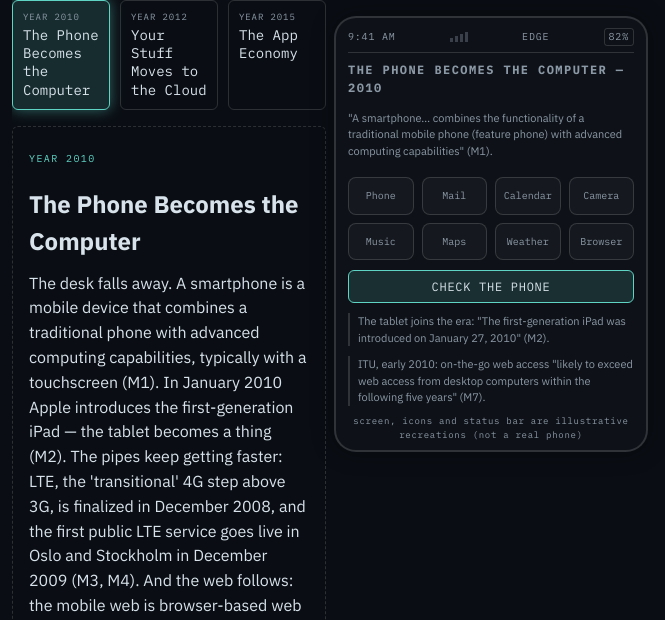
MobileScene (2010–2015, three chapters) › chapter 2, WHAT IF branch: stays on the device, clearly labeled
Click the button "YEAR 2012 Your Stuff Moves to the Cloud". click: (169, 55)
box: [120,0,218,110]
(page scrolled)
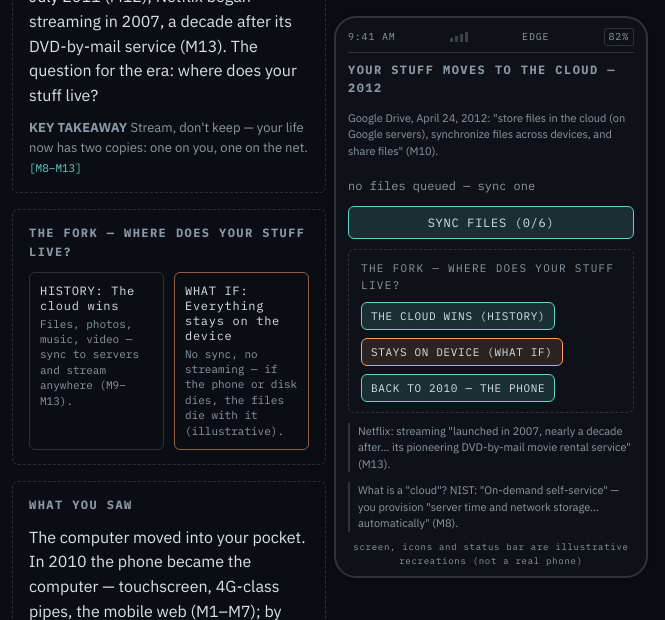
Click the button "WHAT IF: Everything stays on the device". click: (242, 361)
box: [174,272,309,450]
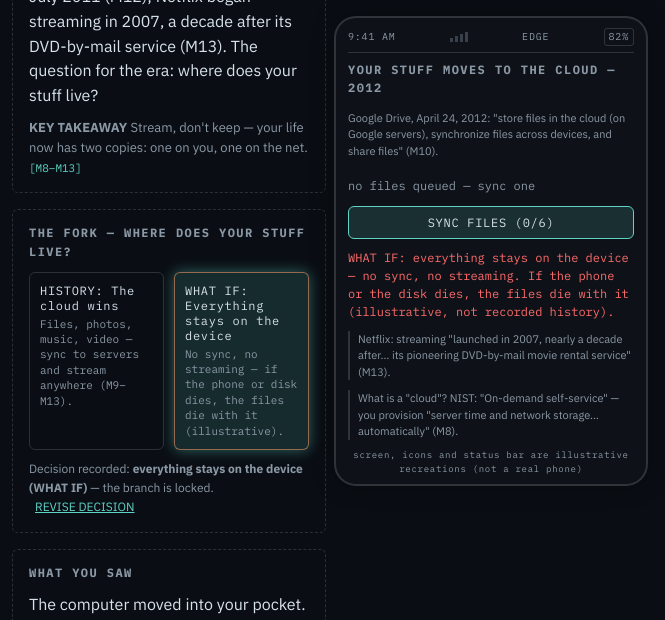
Expected: the button "THE CLOUD WINS (HISTORY)" is gone
